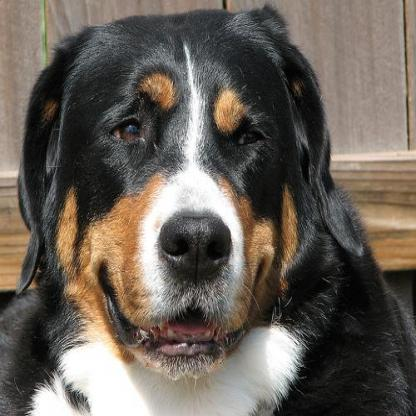Greater_Swiss_Mountain_dog: (0, 0, 414, 413)
